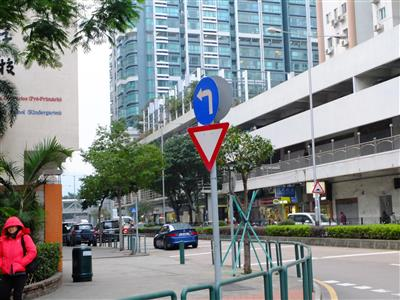bump: (310, 179, 326, 195)
leftTurnOnly: (191, 74, 220, 125)
yield: (184, 120, 231, 172)
